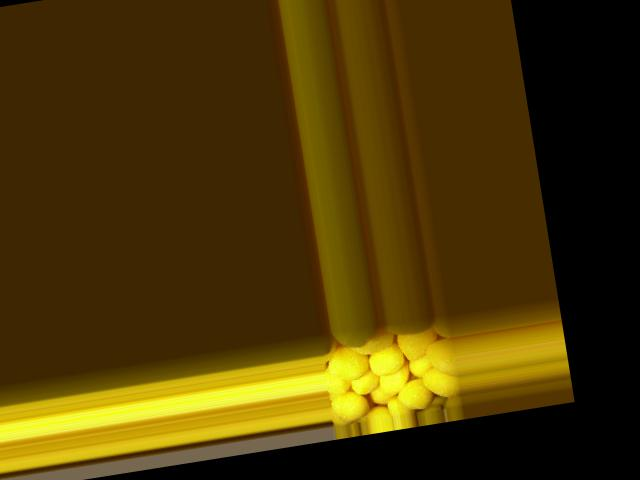lemon: (392, 376, 443, 414)
